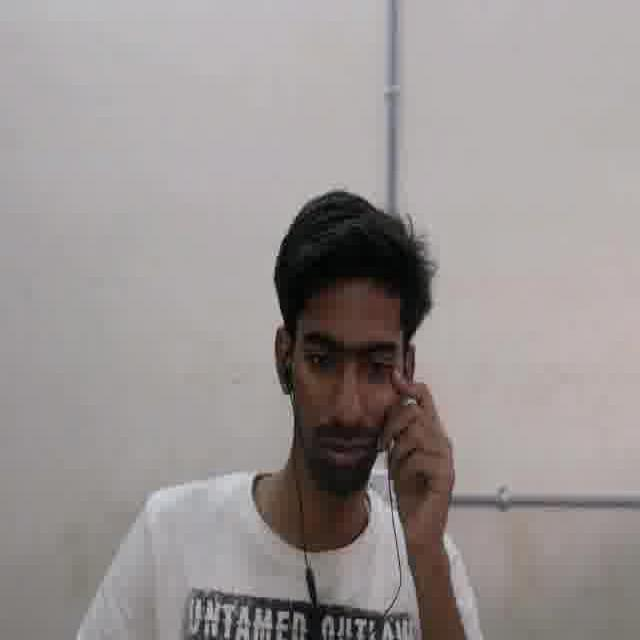Boredom: (288, 286, 406, 486)
